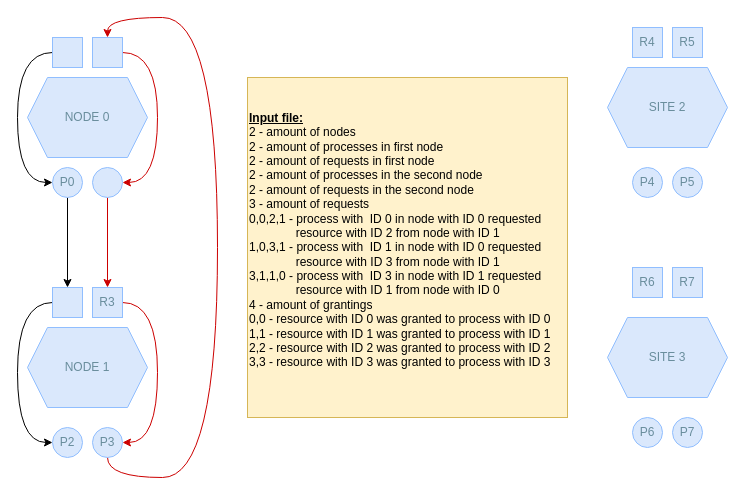
The diagram is 745 pixels wide and 495 high, and some of its shapes have lost their labels. Each missing label, with the centre of its shape:
"P1" belongs at point 107,182.
"R0" belongs at point 67,52.
"R1" belongs at point 107,52.
"R2" belongs at point 67,302.
